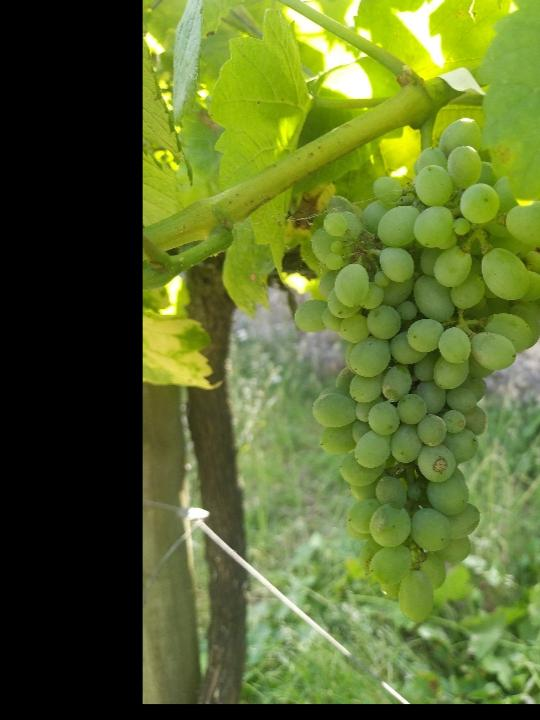grape: (289, 113, 540, 630)
